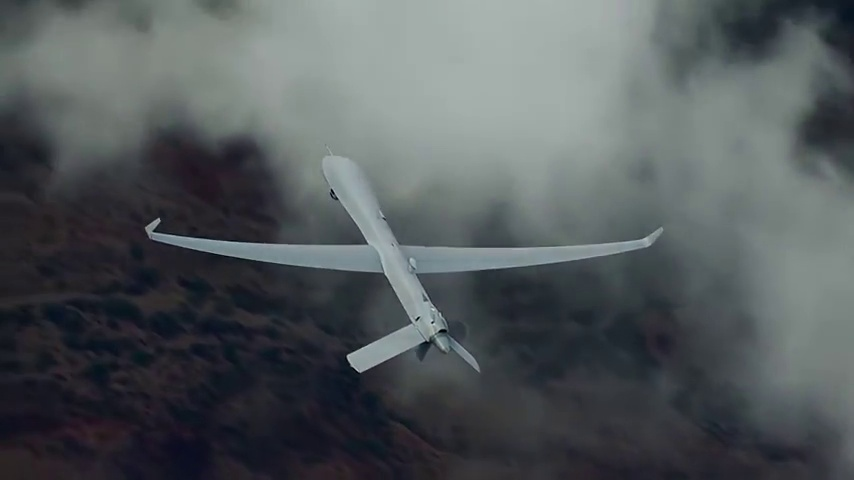military drone: (144, 144, 664, 373)
